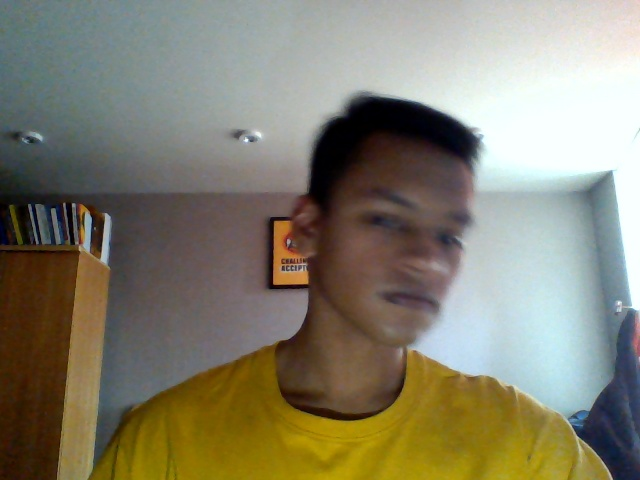no_mask: (316, 239, 458, 350)
